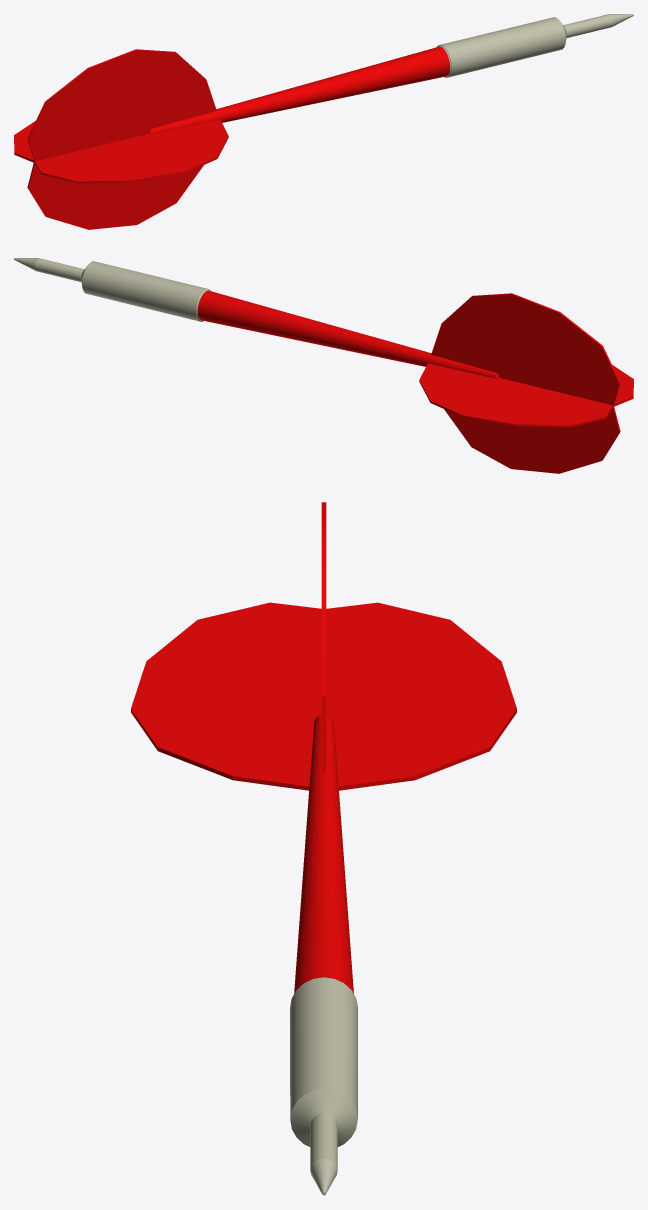
Rendered from Dart.fbx.
3 renders of one model, top to bottom at view 1: azimuth 30°, elevation 25°; view 2: azimuth 150°, elevation 25°; view 3: azimuth 270°, elevation 25°, orthographic. The views are drawn at different scales.
Parts seen in each view (by area): view 1: dartBlockout; view 2: dartBlockout; view 3: dartBlockout.
Boxes of the visible parts, bbox=[...] form: dartBlockout: bbox=[14, 14, 633, 229]; dartBlockout: bbox=[14, 258, 633, 473]; dartBlockout: bbox=[131, 502, 516, 1195].
Bounding box in the file's own units: 19.84 × 5.48 × 5.48.
